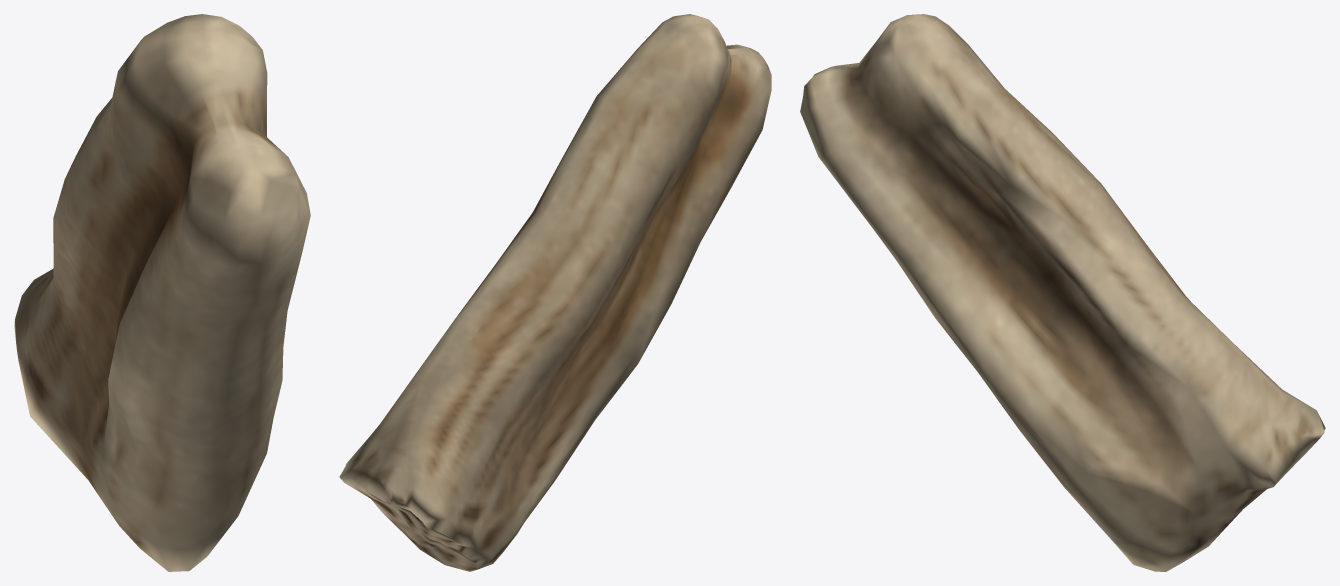
Rendered from Maxilary_Premolar4.glb.
3 renders of one model, left to right at view 1: azimuth 30°, elevation 25°; view 2: azimuth 150°, elevation 25°; view 3: azimuth 270°, elevation 25°, orthographic. The views are drawn at different scales.
Parts seen in each view (by area): view 1: Maxilary_Premolar4.glb; view 2: Maxilary_Premolar4.glb; view 3: Maxilary_Premolar4.glb.
Part boxes in pixels (left/top/right/bottom): Maxilary_Premolar4.glb: left=14, top=14, right=310, bottom=571; Maxilary_Premolar4.glb: left=339, top=14, right=771, bottom=571; Maxilary_Premolar4.glb: left=800, top=14, right=1325, bottom=571.
Bounding box in the file's own units: 0.0323 × 0.0694 × 0.066.
Materials: 1 (1 with a texture image).
